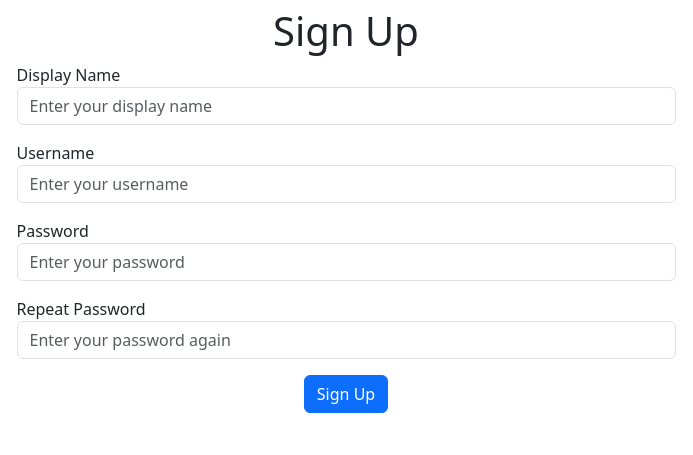
Test: Signup › Interactions › enables the signup button when password and repeat password have same value
In the field with placeholder "Enter your display name": (346, 106) [16,87,676,125], type "my-display-name"
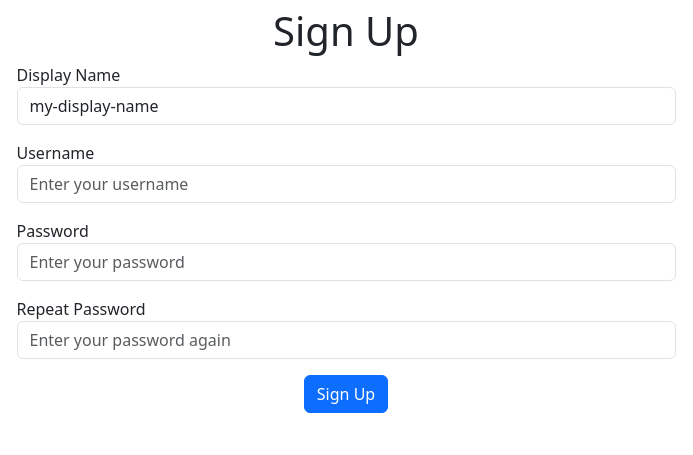
In the field with placeholder "Enter your username": (346, 184) [16,165,676,203], type "my-username"
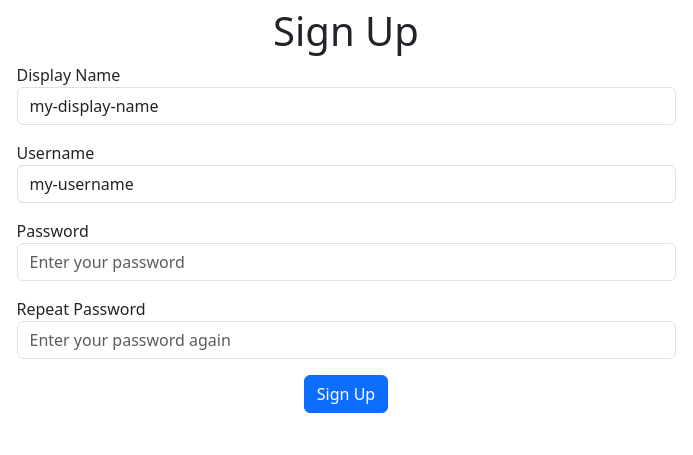
In the password field with placeholder "Enter your password": (346, 262) [16,243,676,281], type "my-password"
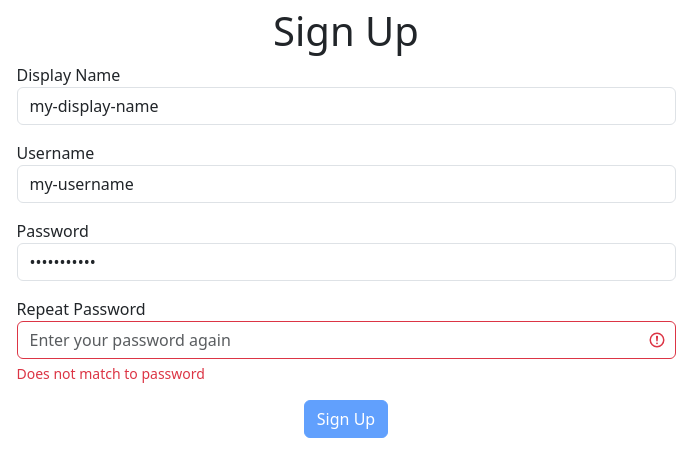
In the password field with placeholder "Enter your password again": (346, 340) [16,321,676,359], type "my-password"
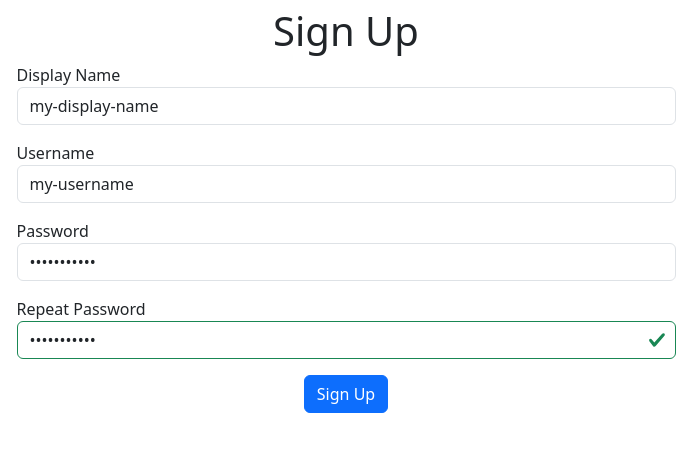
Expected: the button is enabled, [304,375,388,413]
